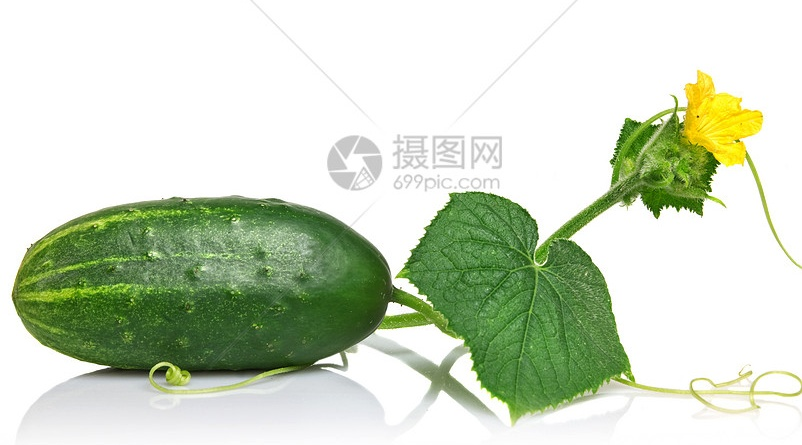cucumber: (11, 201, 395, 373)
cucumber_plant: (399, 51, 776, 412)
